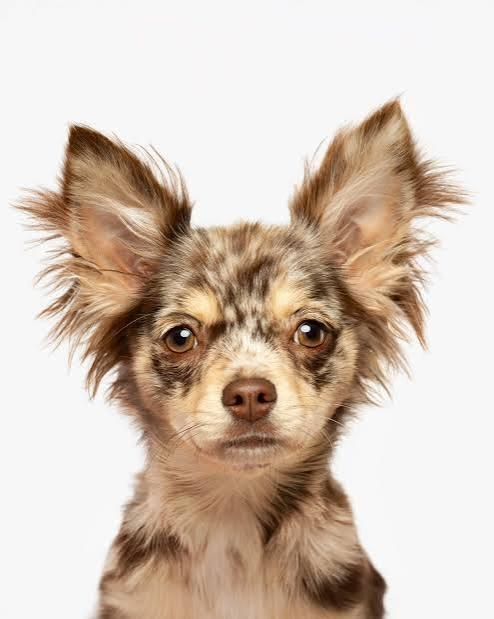adult_dog: (12, 91, 474, 619)
